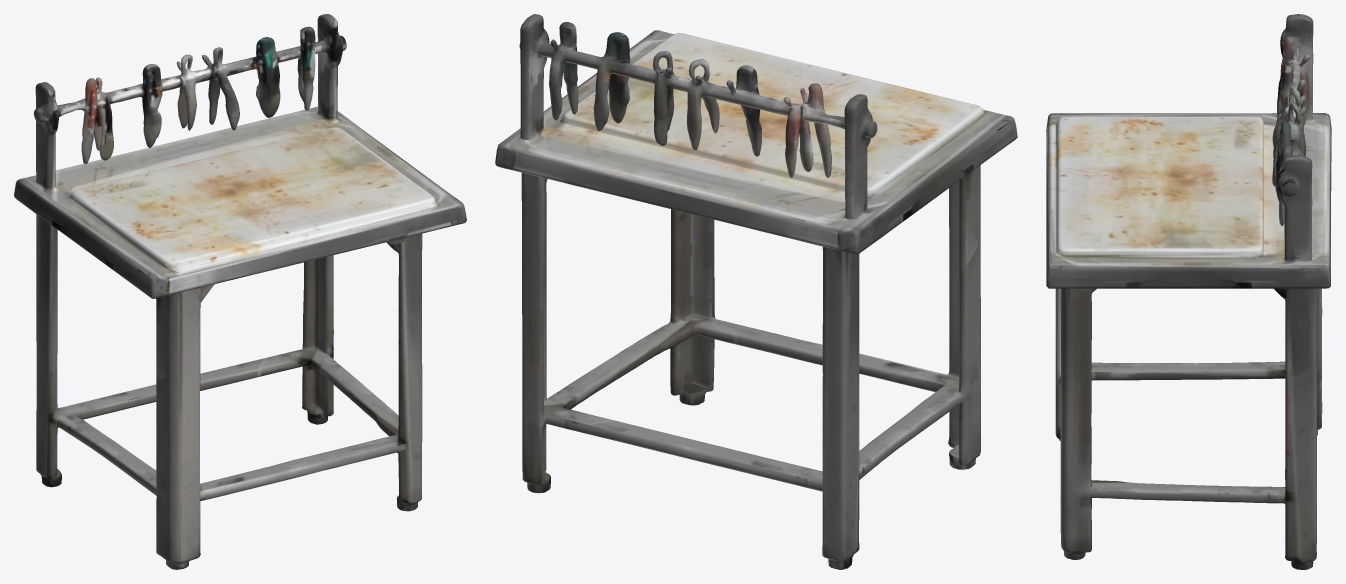
Rendered from boning-table.glb.
The picture shows the model from 3 angles, left to right: view 1: azimuth 30°, elevation 25°; view 2: azimuth 150°, elevation 25°; view 3: azimuth 270°, elevation 25°; orthographic projection. The views are drawn at different scales.
Parts seen in each view (by area): view 1: cowninja-boning-table; view 2: cowninja-boning-table; view 3: cowninja-boning-table.
Part boxes in pixels (x1,y1,x2,y2): cowninja-boning-table: (14, 14, 466, 569); cowninja-boning-table: (495, 14, 1017, 569); cowninja-boning-table: (1046, 14, 1331, 569).
Bounding box in the file's own units: 2 × 2.45 × 1.53.
1 material, 1 textured.
